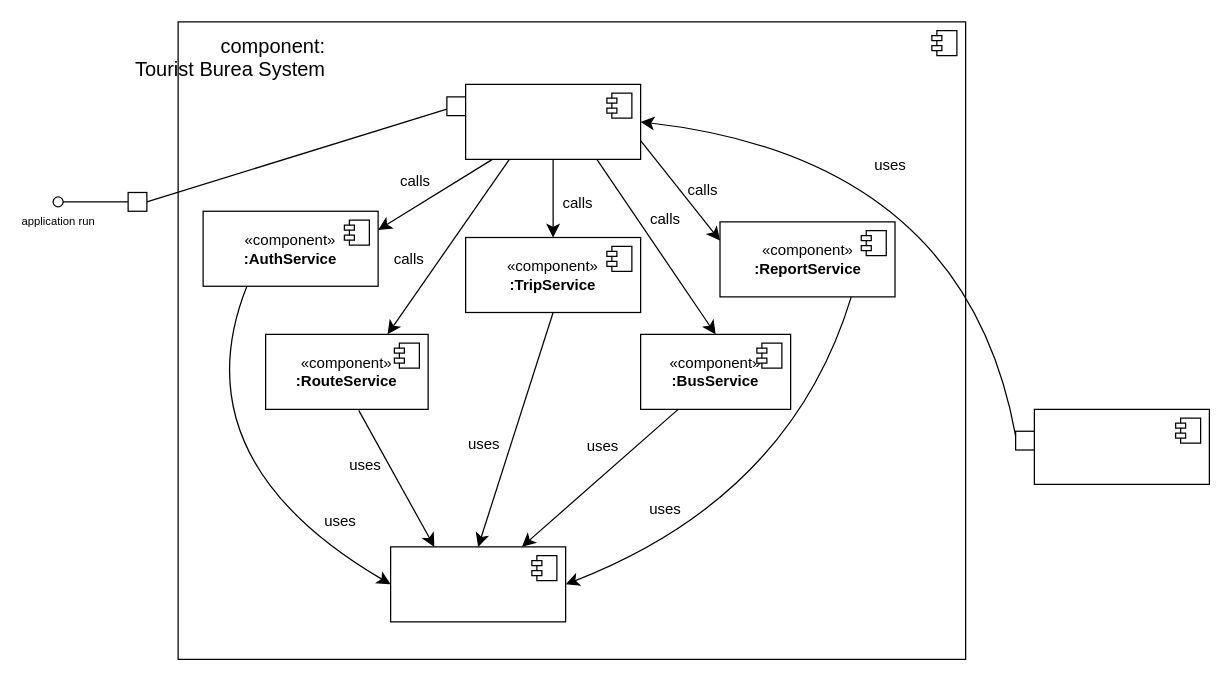
This 1231x681 diagram has some shape labels left out. The shapes that lost their labels are listed below. From the top down, each one's centre as x and y in pixels, then its label:
At (x=552, y=121): "«component» :Menu".
At (x=1121, y=446): "«component» :User".
At (x=477, y=584): "«component» :Database".
